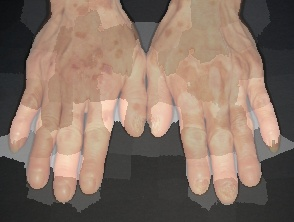vitiligo: (130, 0, 288, 193), (15, 13, 141, 146)
